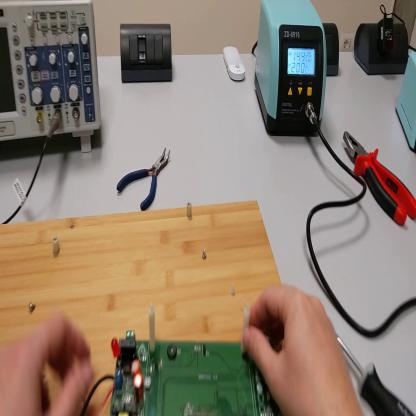hand: (243, 286, 365, 415), (2, 310, 92, 416)
low voltage board: (81, 301, 285, 416)
oscilloscope: (2, 3, 102, 153)
pliers: (343, 130, 416, 227), (117, 145, 171, 212)
screwdriver-: (335, 336, 415, 416)
socket: (356, 19, 410, 75), (322, 23, 339, 77)
welder base: (396, 54, 415, 152)
welder station: (256, 5, 329, 139)
working area: (2, 200, 286, 415)
